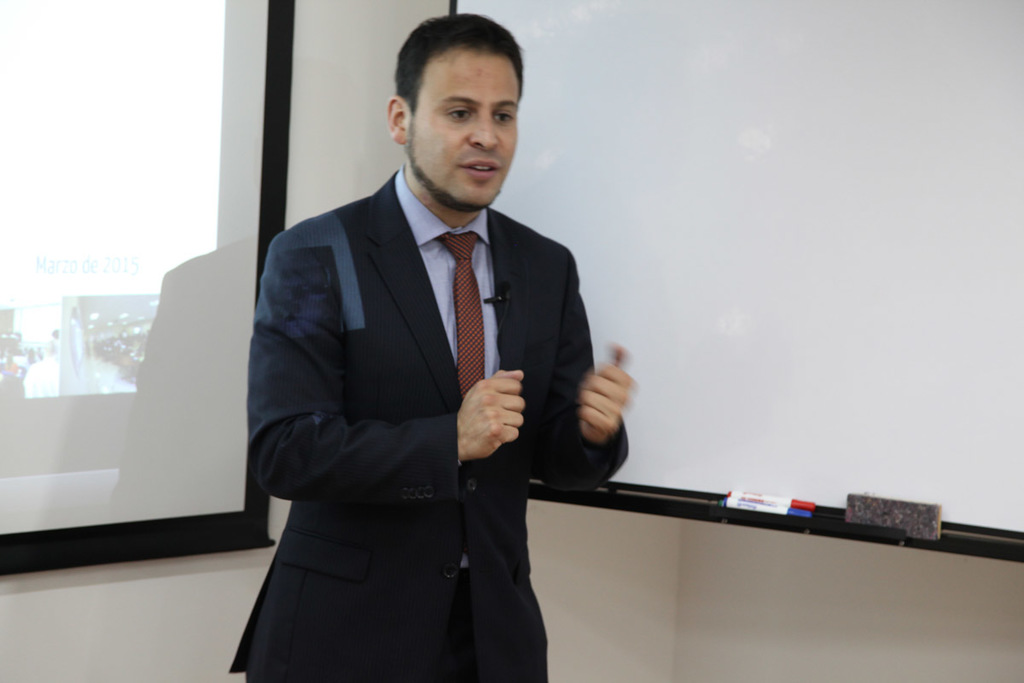Person: (227, 12, 636, 683)
